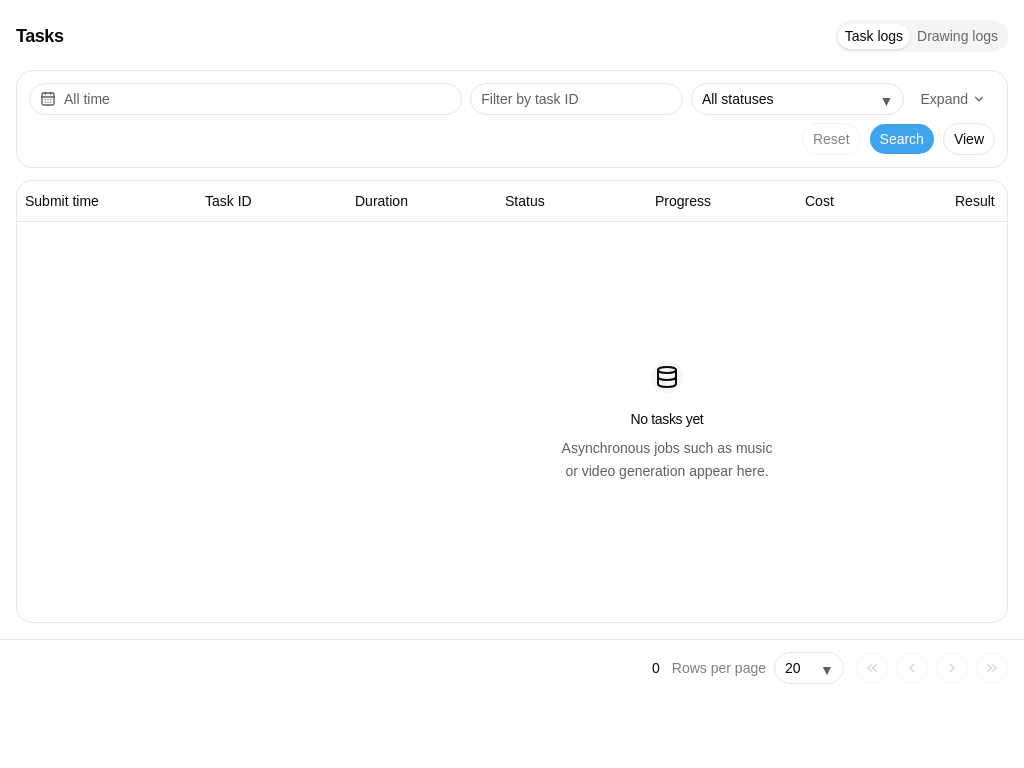
Test: TasksPage › the drawing tab reads /api/mj/self/ with millisecond bounds
The image size is (1024, 768).
Click the tab "Drawing logs" at (958, 36), box 910,24 -> 1005,48
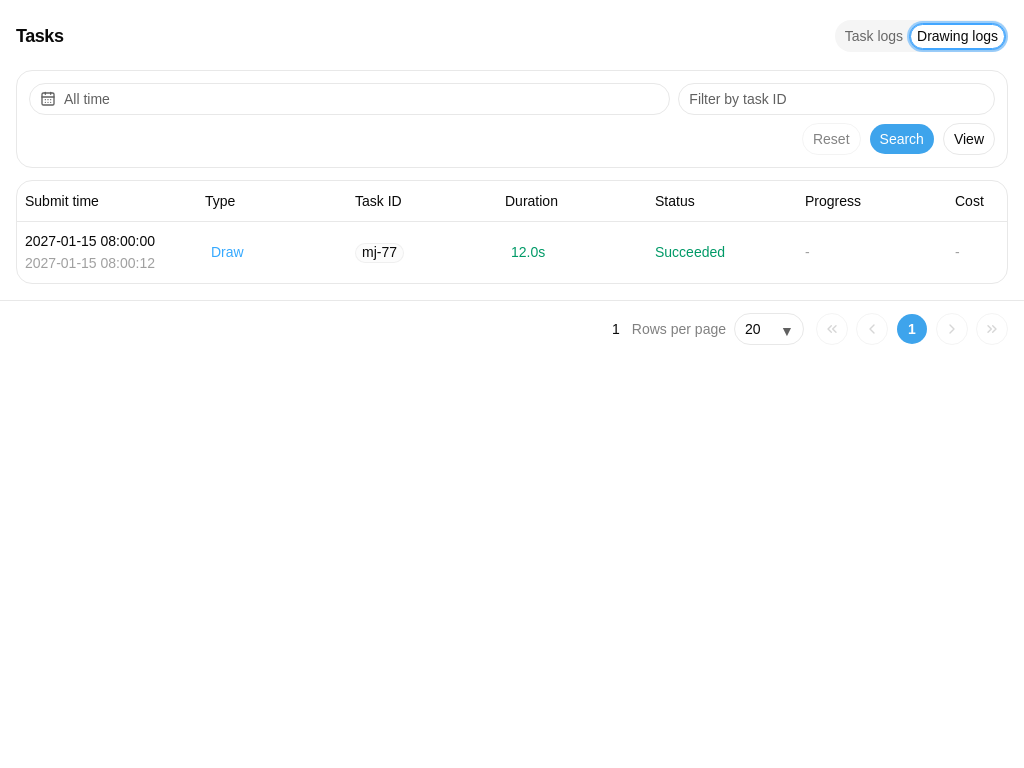
Expected: the text "mj-77" is shown, 362,243 -> 397,263
